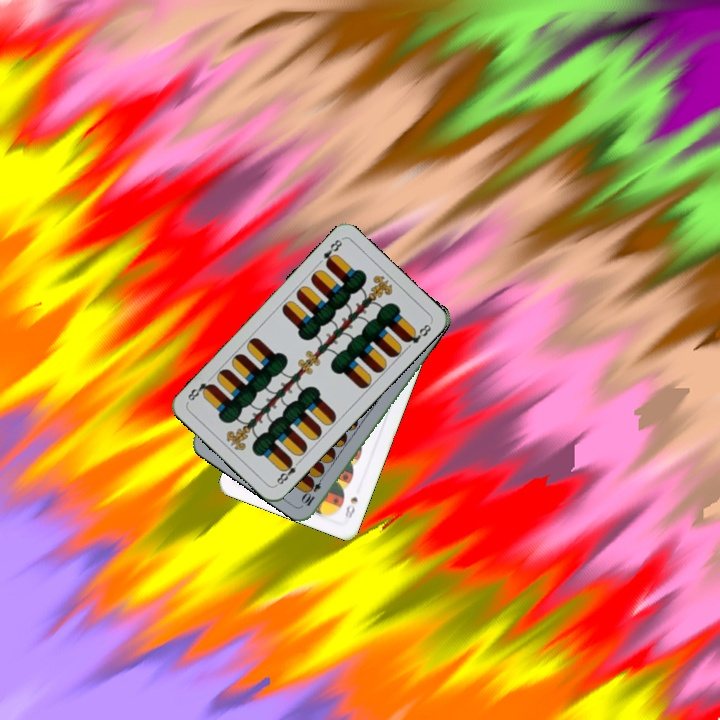E10: (298, 471, 327, 509)
E8: (272, 456, 304, 488), (319, 235, 345, 269)
S8: (341, 493, 360, 521)
